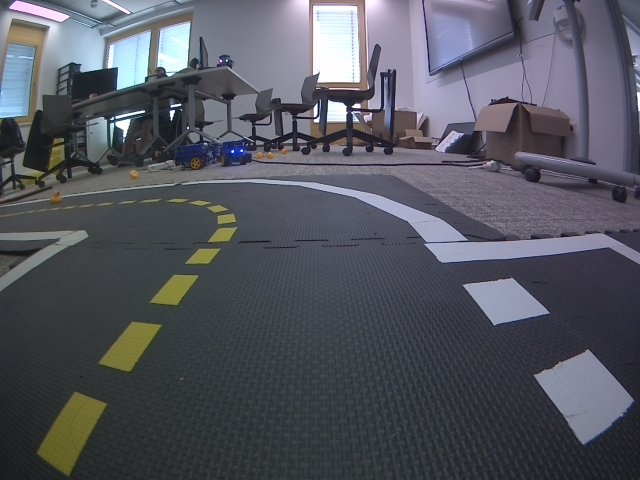Bot: (174, 145, 207, 171), (220, 142, 248, 166), (216, 54, 233, 69)
freeSlot: (425, 234, 640, 480)
